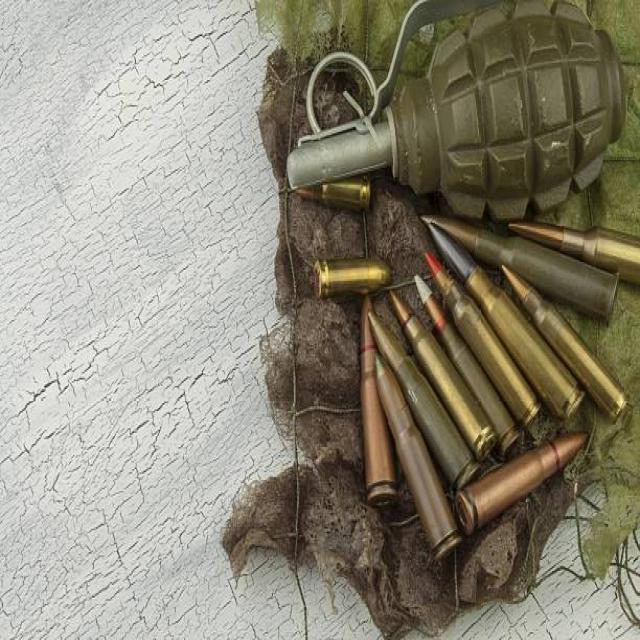grenade: (284, 1, 633, 225)
